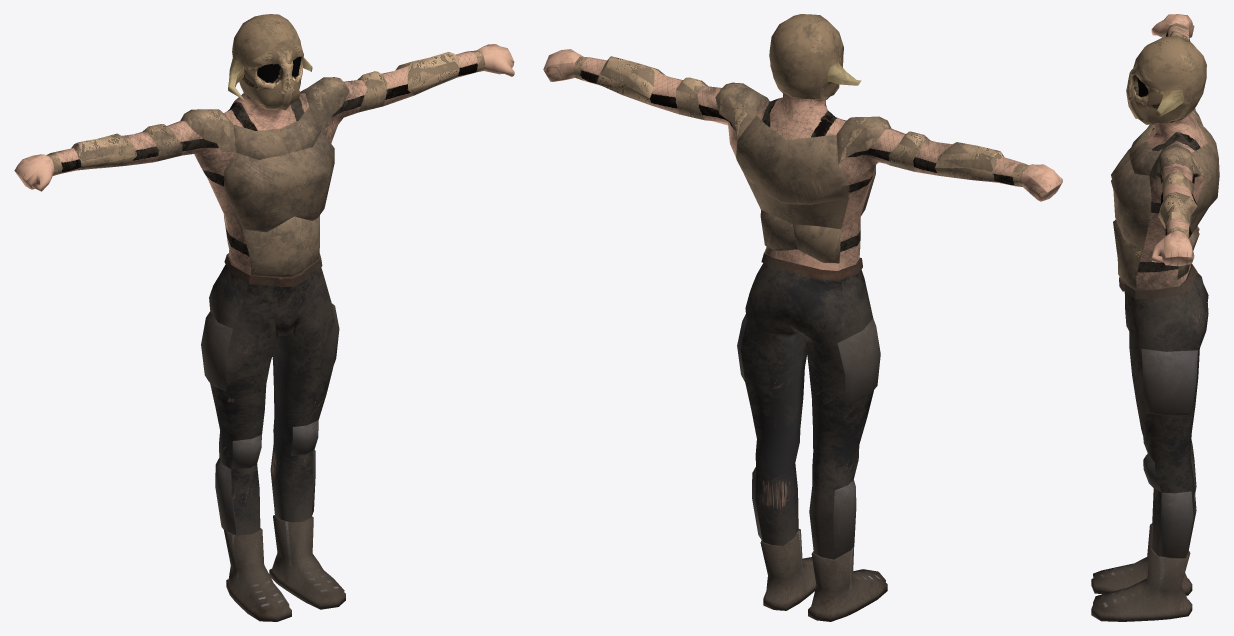
Rendered from NPC1.obj.
3 views of the same model, side by side, from view 1: azimuth 30°, elevation 25°; view 2: azimuth 150°, elevation 25°; view 3: azimuth 270°, elevation 25° (orthographic). The views are drawn at different scales.
Visible parts, largest first — view 1: NPC1; view 2: NPC1; view 3: NPC1.
Boxes of the visible parts, box(x1,y1,x2,y2) form: NPC1: box(14, 14, 514, 621); NPC1: box(543, 14, 1062, 621); NPC1: box(1091, 14, 1219, 621).
Size of the model in its own units: 8.78 by 9.69 by 2.01.
1 material, 1 textured.
